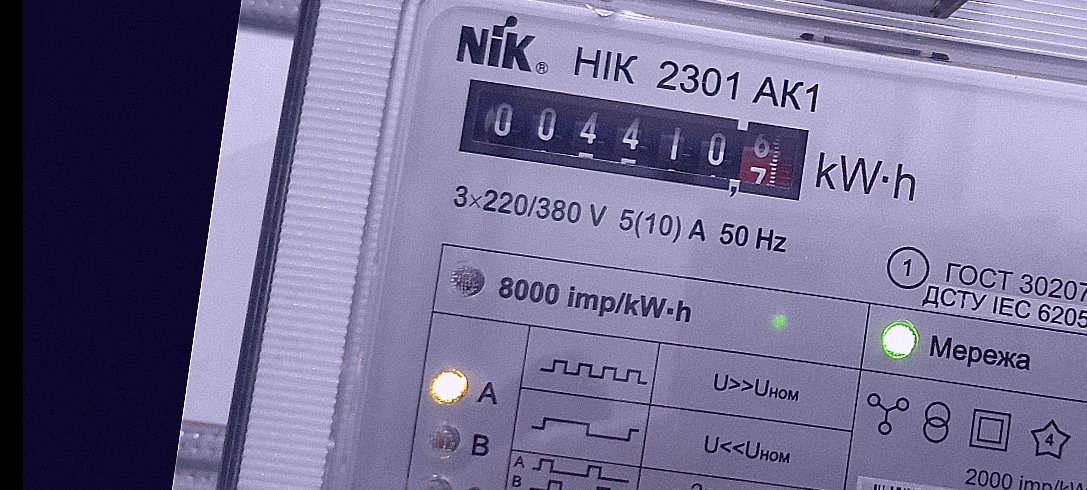0: (490, 98, 516, 138), (535, 102, 558, 143), (705, 129, 729, 167)
1: (665, 123, 684, 162)
4: (576, 105, 603, 146), (618, 112, 645, 153)
6: (753, 131, 774, 159)
7: (747, 163, 768, 185)
screen: (446, 64, 824, 214)
